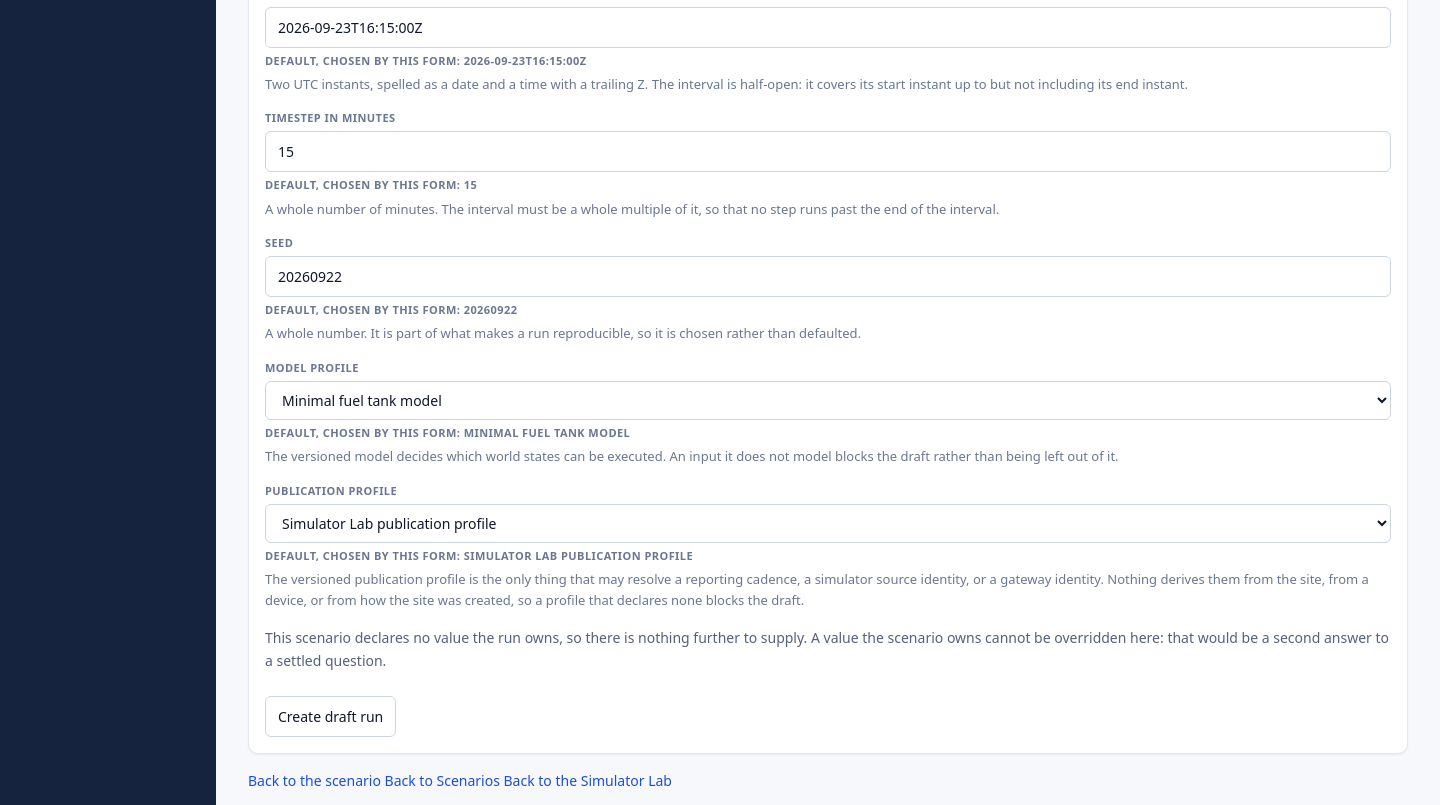
Test: nothing on this screen is chosen for the person › sends a default a person cleared, and lets the backend refuse it
(page scrolled)
Select "Choose a model profile" in the dropdown labelled "Model profile" at (828, 400), box [265, 381, 1391, 420]
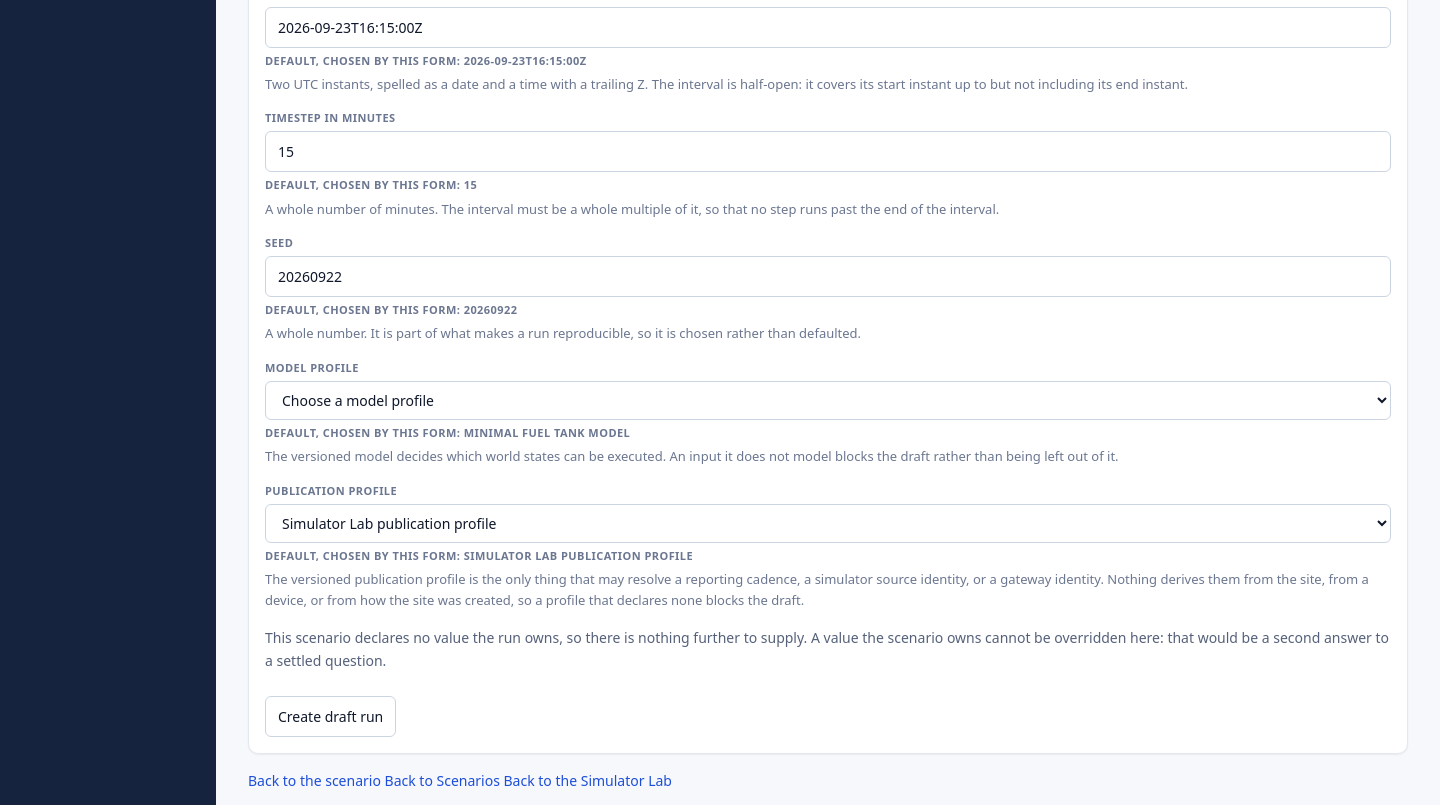
Click the button "Create draft run".
click(331, 716)  # box [265, 696, 396, 737]
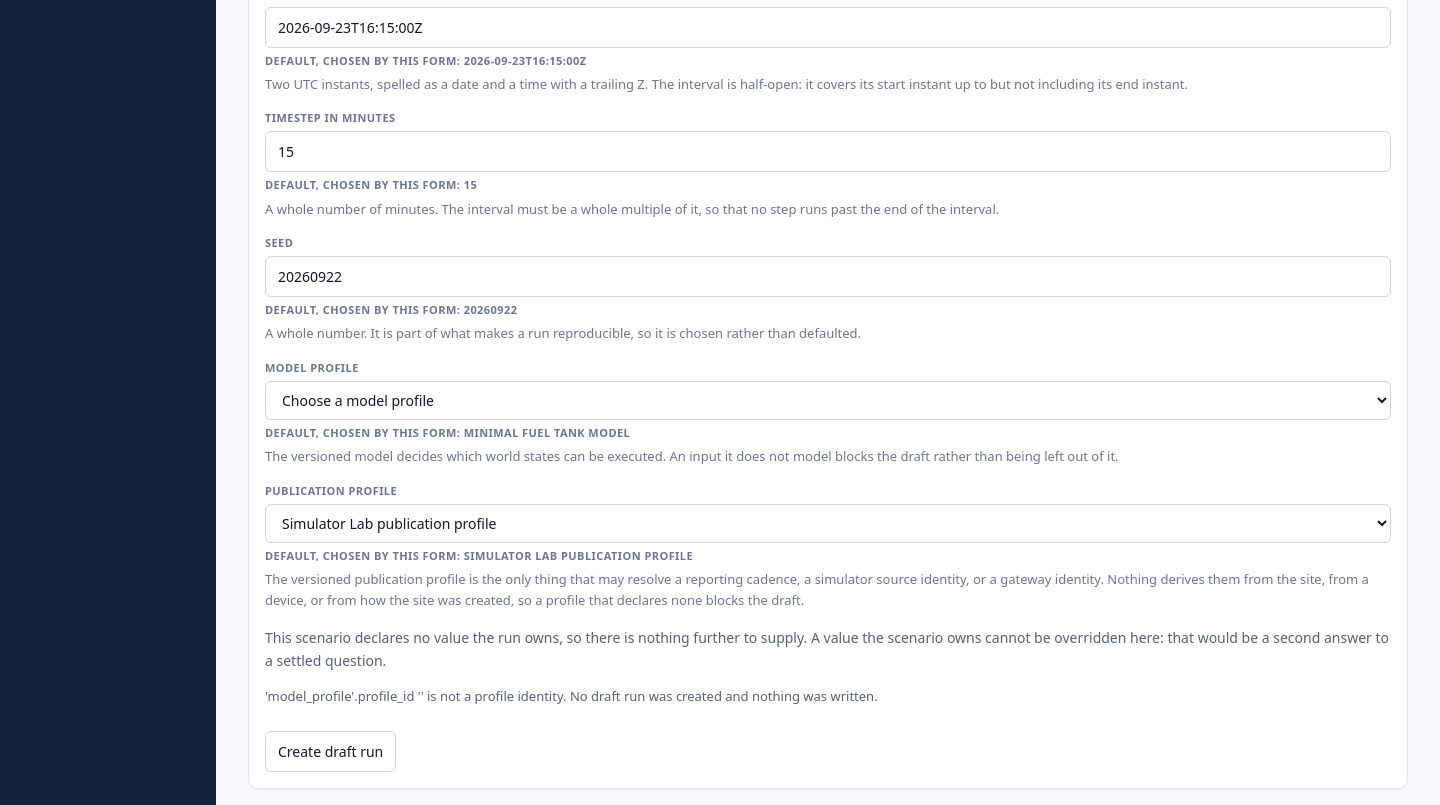
expect the message shows "is not a profile identity": met, box [265, 687, 566, 705]
